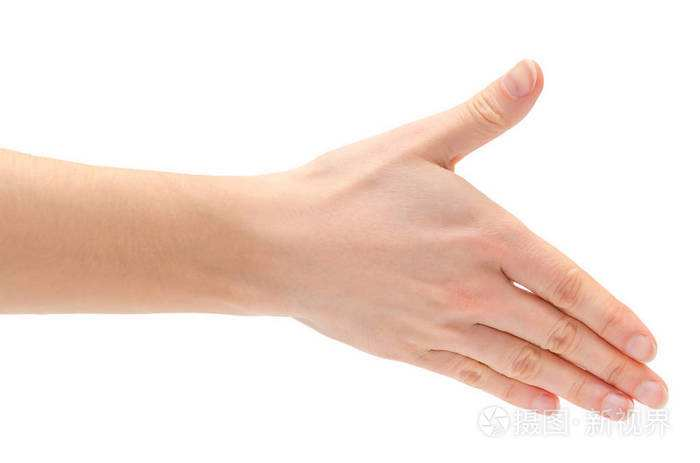no-phone: (283, 55, 671, 424)
